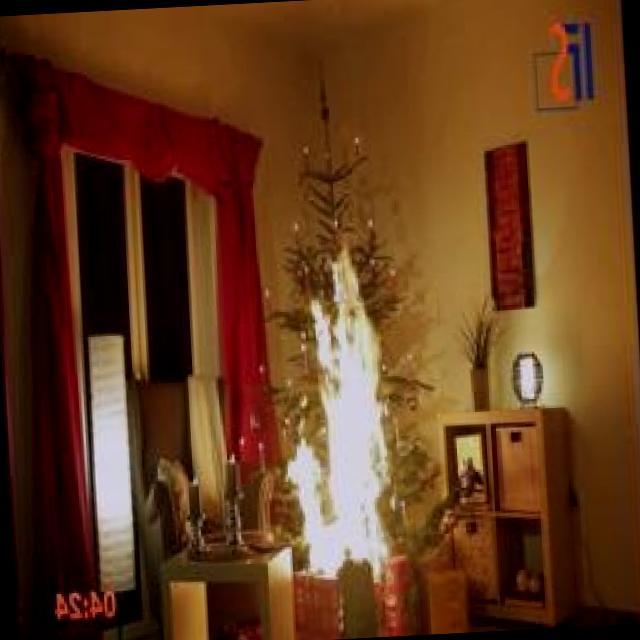fire: (236, 225, 434, 579)
